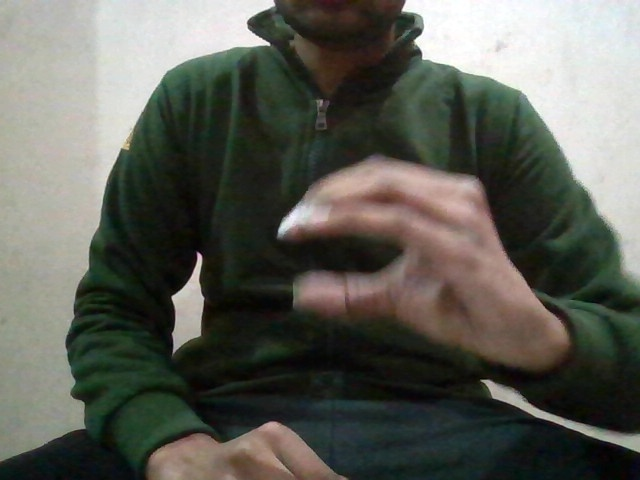C: (275, 147, 558, 348)
